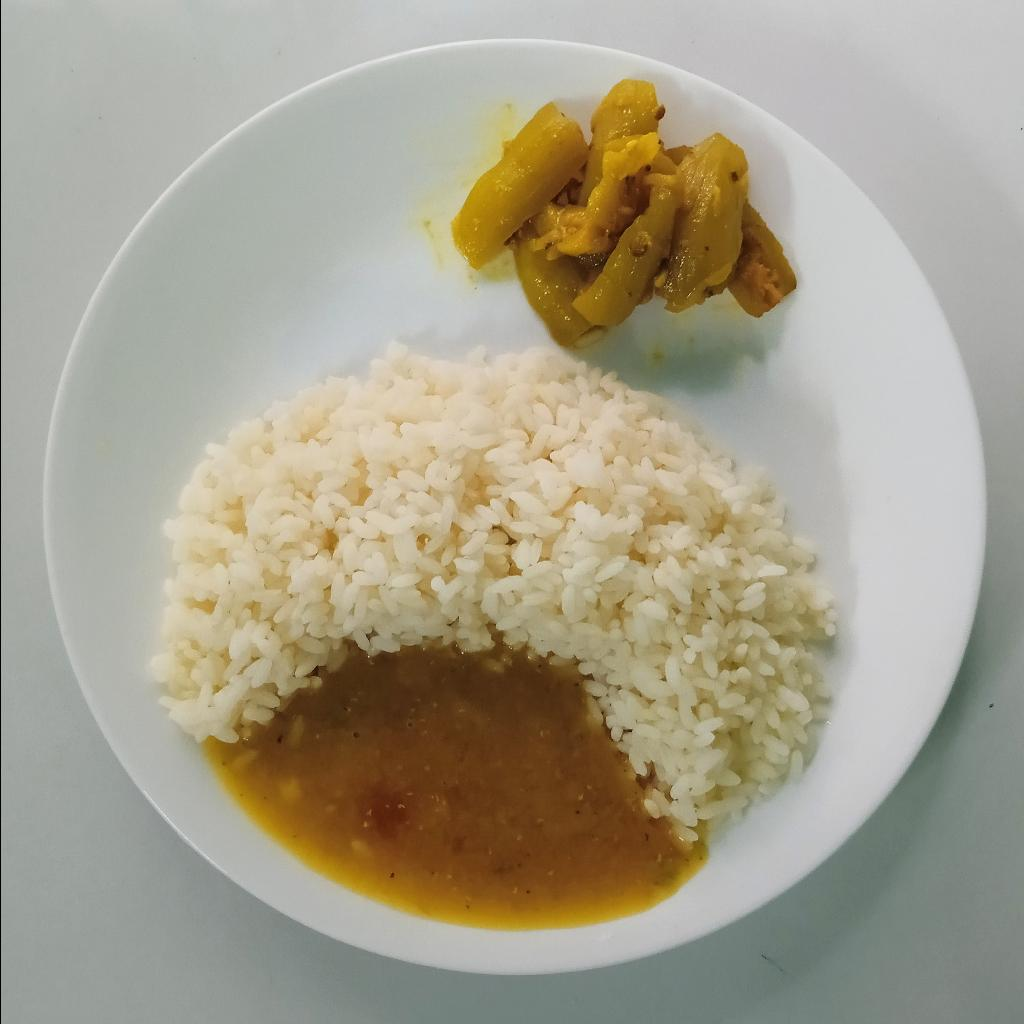daal: (214, 647, 706, 929)
potol: (449, 80, 806, 343)
rice: (149, 343, 853, 838)
